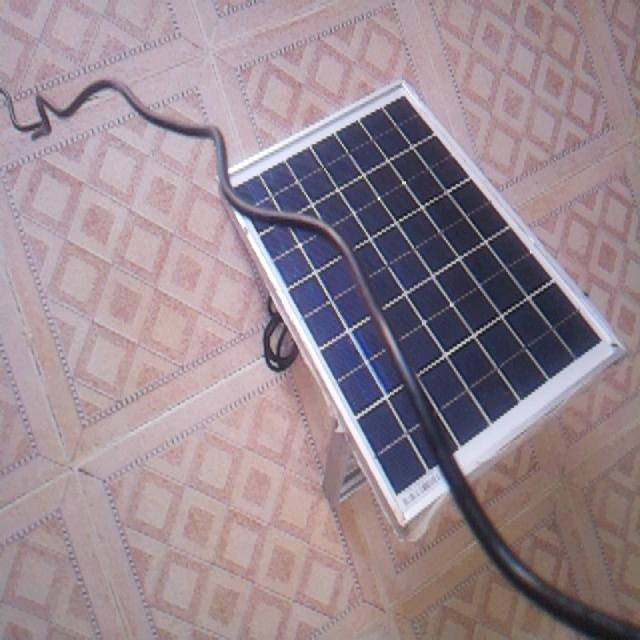Normal Solar Panel: (220, 80, 624, 527)
